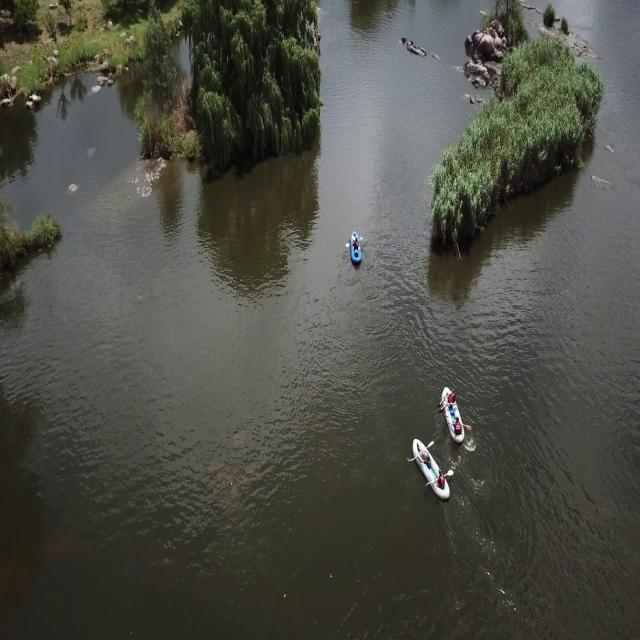kayak: (409, 438, 452, 500), (438, 384, 467, 449), (347, 230, 365, 270)
